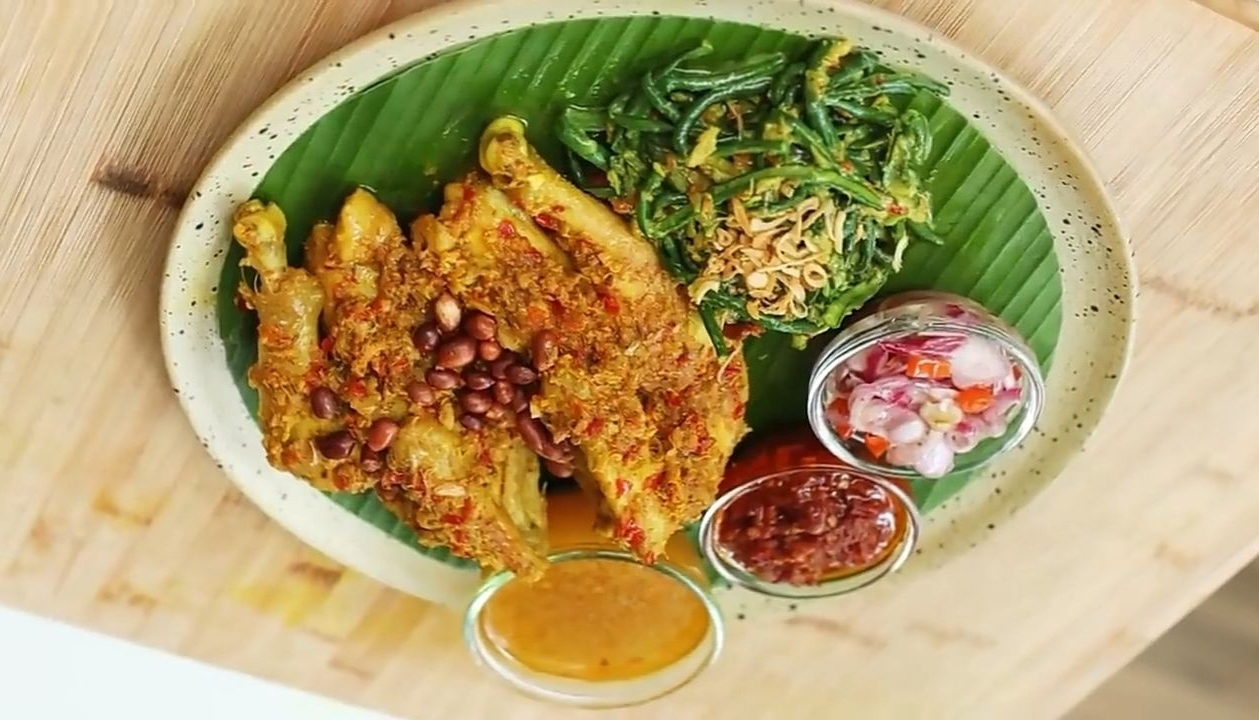ayam_betutu: (235, 146, 747, 589)
